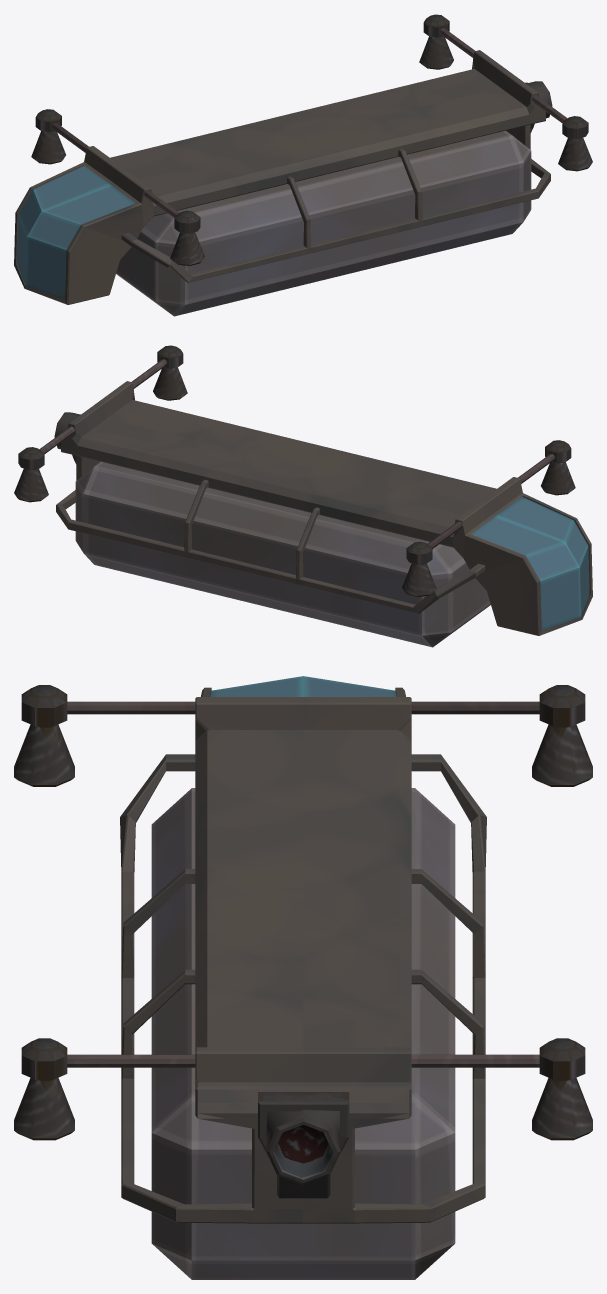
Rendered from Ship_1.fbx.
3 renders of one model, top to bottom at view 1: azimuth 30°, elevation 25°; view 2: azimuth 150°, elevation 25°; view 3: azimuth 270°, elevation 25°, orthographic. The views are drawn at different scales.
Parts seen in each view (by area): view 1: Ship, Container, Engine Back L, Engine Front L, Engine Front R, Engine Back R, Bar Front, Bar Back; view 2: Ship, Container, Engine Back R, Engine Front R, Engine Front L, Engine Back L, Bar Front, Bar Back; view 3: Ship, Container, Engine Truster, Engine Back L, Engine Back R, Engine Front L, Engine Front R, Bar Back, Bar Front.
Part boxes in pixels (left/top/right/bottom): Ship: left=14, top=50, right=550, bottom=304; Container: left=116, top=130, right=531, bottom=316; Engine Back L: left=558, top=116, right=592, bottom=171; Engine Front L: left=170, top=210, right=204, bottom=265; Engine Front R: left=31, top=109, right=65, bottom=164; Engine Back R: left=419, top=14, right=453, bottom=69; Bar Front: left=52, top=123, right=179, bottom=218; Bar Back: left=439, top=28, right=567, bottom=123; Ship: left=56, top=381, right=592, bottom=635; Container: left=75, top=461, right=490, bottom=647; Engine Back R: left=14, top=447, right=48, bottom=502; Engine Front R: left=402, top=541, right=436, bottom=596; Engine Front L: left=541, top=440, right=575, bottom=495; Engine Back L: left=153, top=345, right=187, bottom=400; Bar Front: left=427, top=454, right=554, bottom=549; Bar Back: left=39, top=359, right=167, bottom=454; Ship: left=120, top=676, right=486, bottom=1223; Container: left=151, top=788, right=455, bottom=1279; Engine Truster: left=258, top=1092, right=349, bottom=1198; Engine Back L: left=14, top=1038, right=74, bottom=1140; Engine Back R: left=532, top=1038, right=592, bottom=1140; Engine Front L: left=14, top=685, right=74, bottom=786; Engine Front R: left=532, top=685, right=592, bottom=786; Bar Back: left=67, top=1054, right=539, bottom=1067; Bar Front: left=67, top=701, right=539, bottom=714.
Bounding box in the file's own units: 1242 × 2398 × 608.
